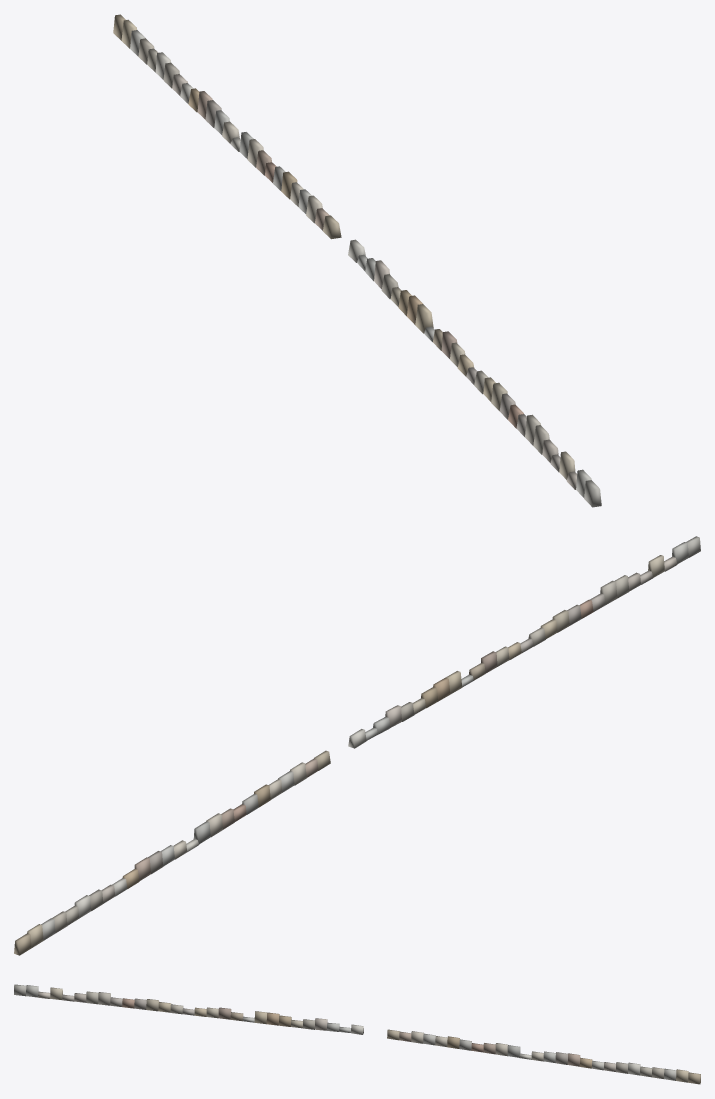
The model's file is farm_13_5_collision.glb.
3 renders of one model, top to bottom at view 1: azimuth 30°, elevation 25°; view 2: azimuth 150°, elevation 25°; view 3: azimuth 270°, elevation 25°, orthographic. The views are drawn at different scales.
Visible parts, largest first — view 1: geometry_0; view 2: geometry_0; view 3: geometry_0.
Boxes of the visible parts, bbox=[...] form: geometry_0: bbox=[113, 14, 601, 507]; geometry_0: bbox=[14, 536, 700, 955]; geometry_0: bbox=[14, 984, 700, 1084].
Bounding box in the file's own units: 16.24 × 6.96 × 89.81.
